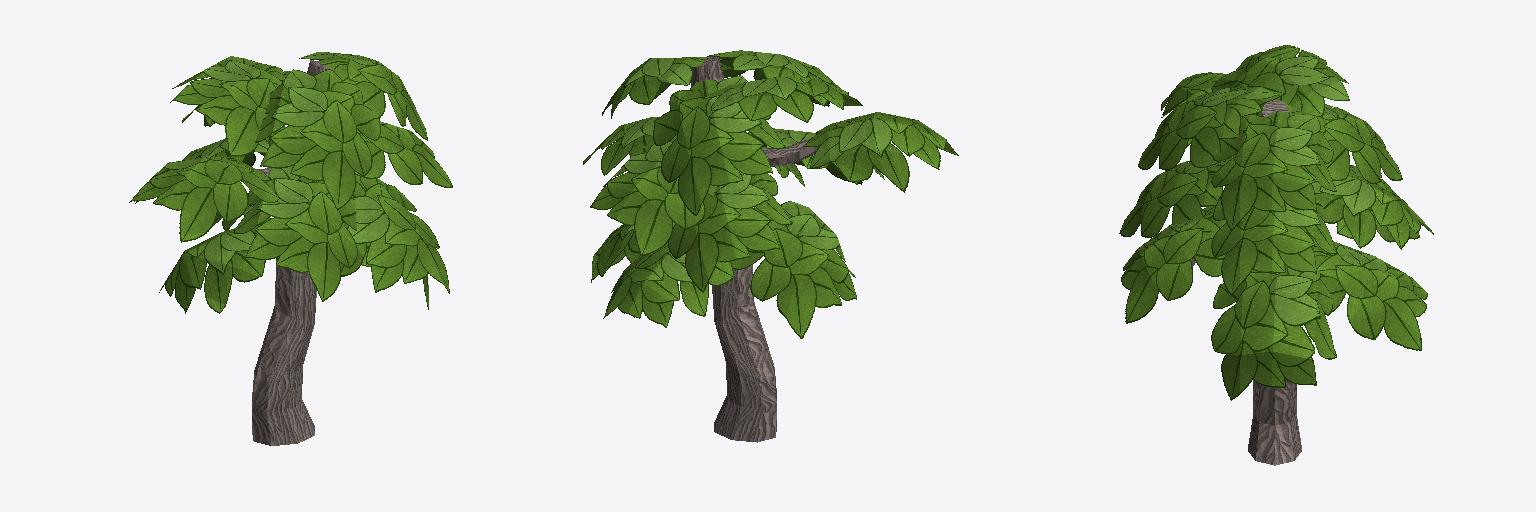
The picture shows the model from 3 angles: view 1: azimuth 30°, elevation 25°; view 2: azimuth 150°, elevation 25°; view 3: azimuth 270°, elevation 25°; orthographic projection.
Visible parts, largest first — view 1: Form5, Form6; view 2: Form5, Form6; view 3: Form5, Form6.
Boxes of the visible parts, x1,y1,x2,y2 form: Form5: [129, 52, 452, 313]; Form6: [241, 60, 334, 445]; Form5: [583, 50, 958, 338]; Form6: [691, 57, 818, 442]; Form5: [1119, 45, 1433, 400]; Form6: [1191, 100, 1301, 465].
Size of the model in its own units: 25.62 by 24.05 by 20.53.
Materials: 2 (2 with a texture image).